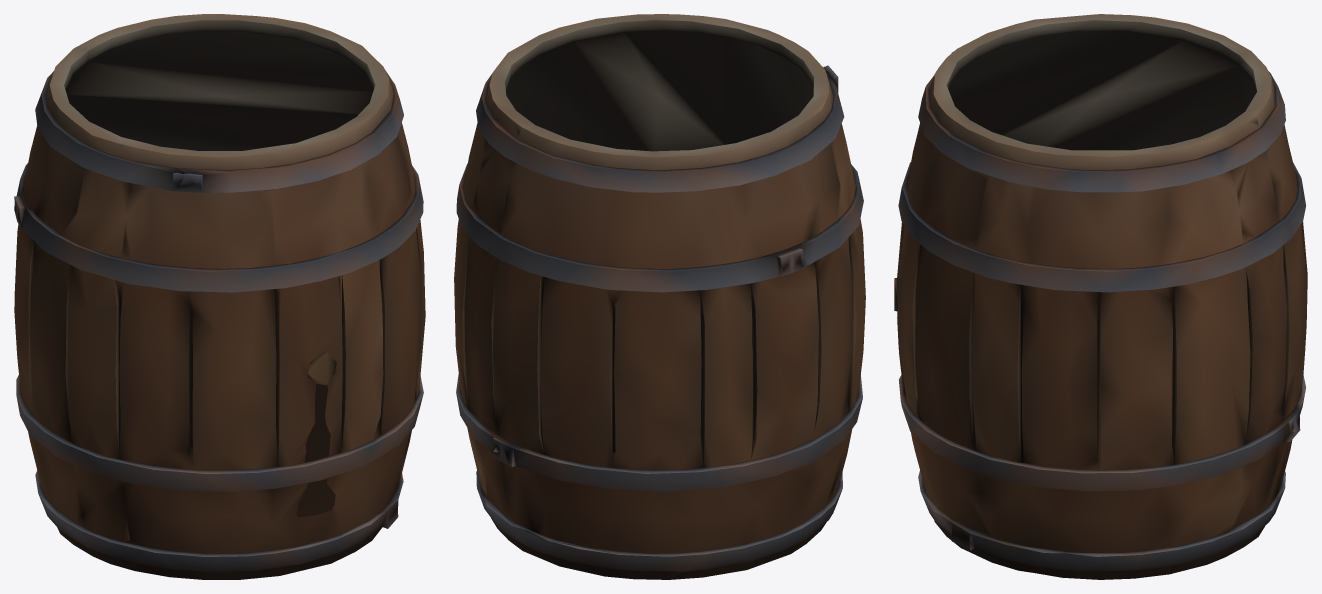
Rendered from barrel.glb.
3 views of the same model, side by side, from view 1: azimuth 30°, elevation 25°; view 2: azimuth 150°, elevation 25°; view 3: azimuth 270°, elevation 25° (orthographic).
Visible parts, largest first — view 1: barrel_LOD0; view 2: barrel_LOD0; view 3: barrel_LOD0.
Boxes of the visible parts, <box> form: barrel_LOD0: <box>14,14,425,579</box>; barrel_LOD0: <box>454,14,865,579</box>; barrel_LOD0: <box>894,14,1307,579</box>.
Size of what is drawn, in the model's own units: 0.964 by 1.1 by 0.9756.
